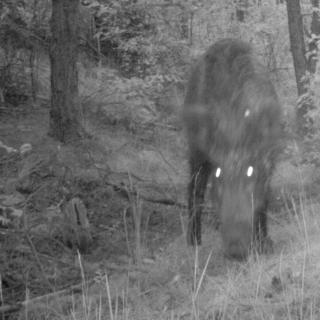Pig: (172, 8, 292, 284)
